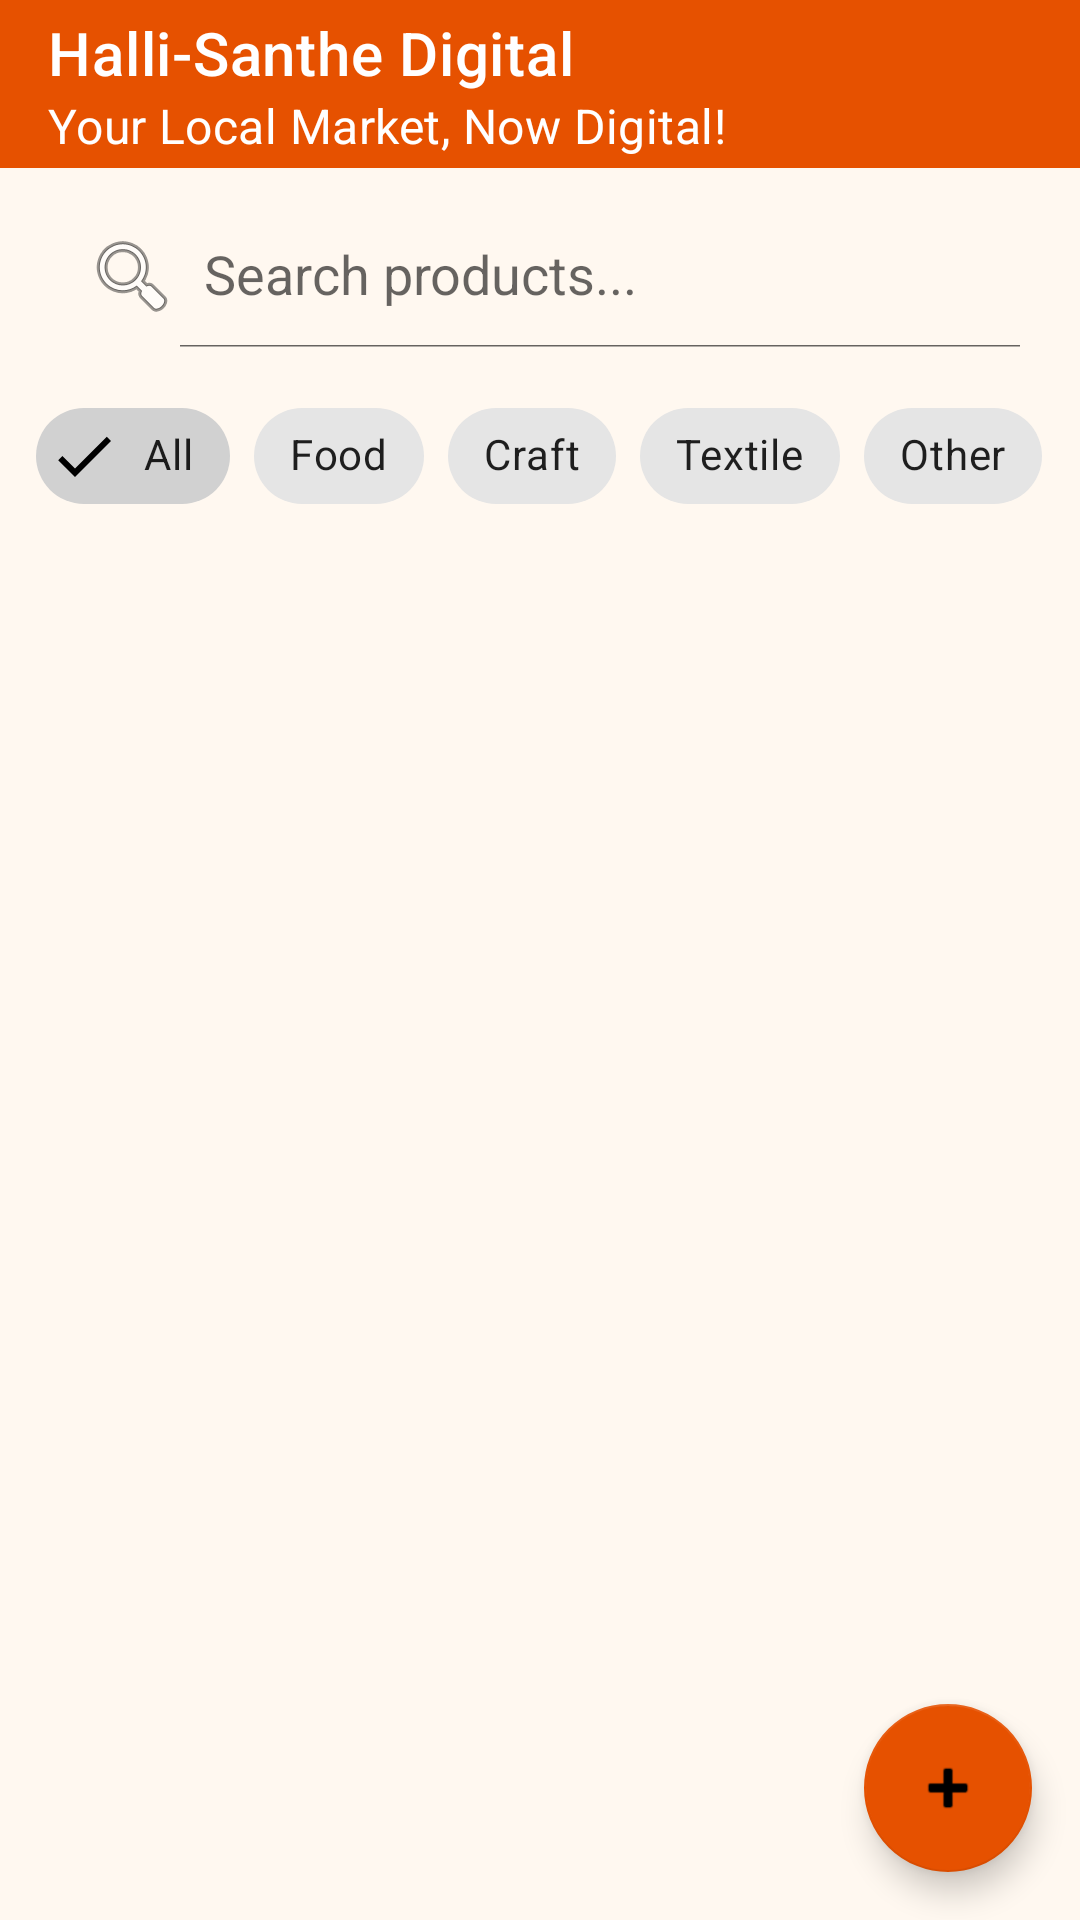

Icons on this 1080px×1920px Android screen, each with its box as [left=x1, top=y1, right=x2, bottom=y2]:
Add Product: [left=864, top=1704, right=1032, bottom=1872]
